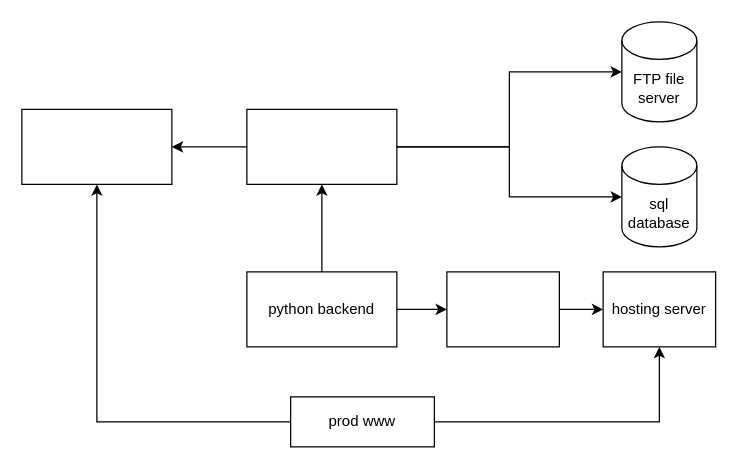
The diagram is 738 pixels wide and 469 high, and some of its shapes have lost their labels. The shapes that lost their labels are listed below. From the top down, each one's centre as x and y in pixels, then its label:
At (x=96, y=146): "API Gateway".
At (x=321, y=146): "lambda".
At (x=502, y=309): "react front end".
